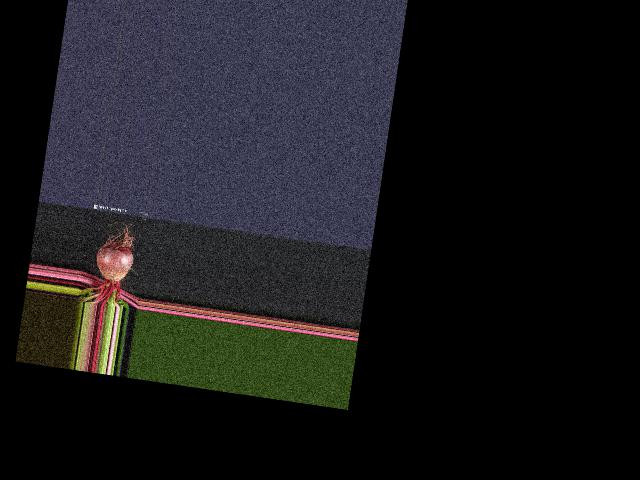beet: (77, 214, 139, 308)
